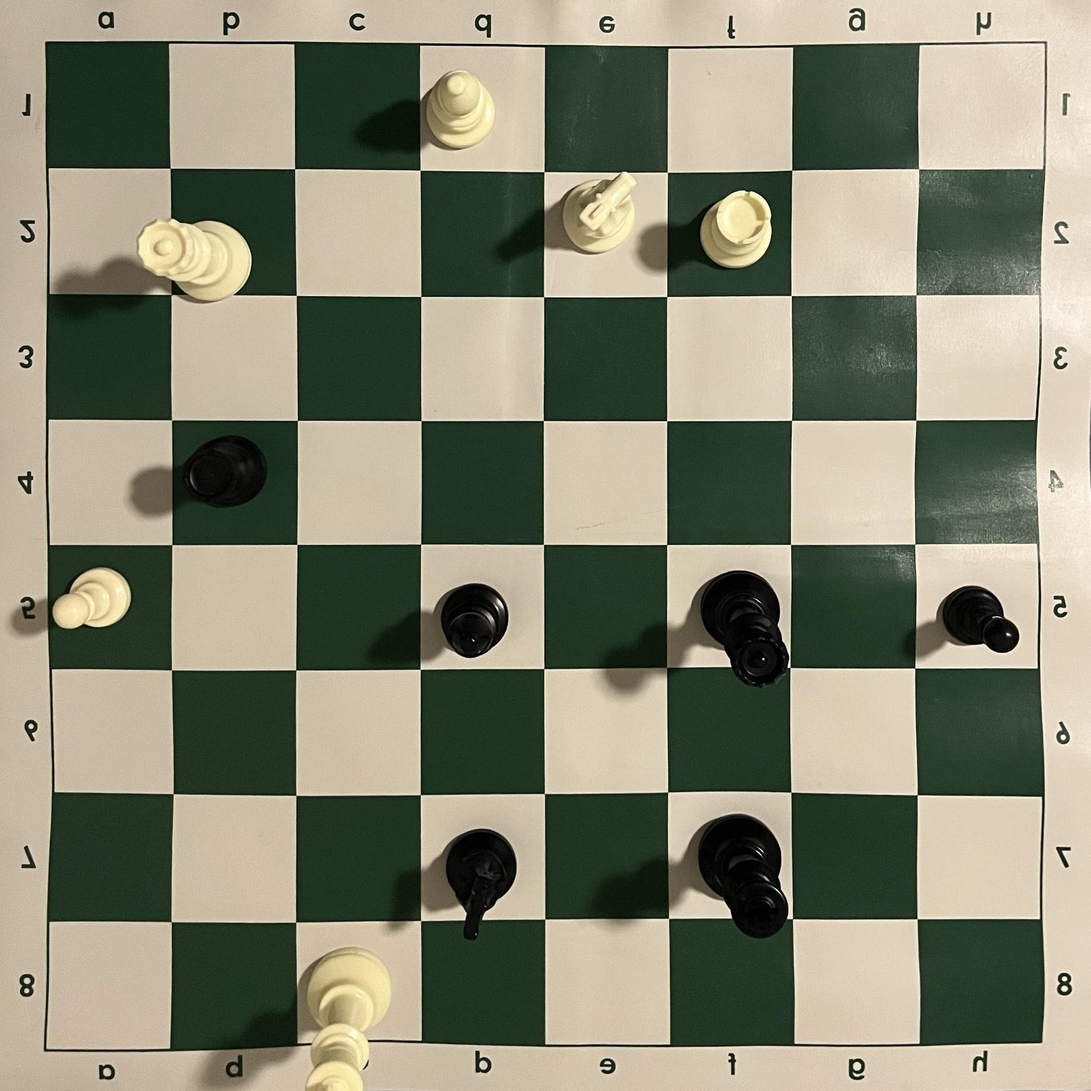black_bishop: (439, 582, 510, 659)
black_king: (697, 814, 789, 939)
black_knight: (445, 827, 518, 940)
black_pawn: (940, 586, 1020, 653)
black_queen: (698, 570, 791, 688)
black_rook: (181, 435, 268, 508)
white_king: (304, 946, 393, 1091)
white_knight: (561, 171, 637, 255)
white_pawn: (425, 69, 496, 149), (52, 567, 131, 630)
white_queen: (137, 218, 252, 302)
white_rook: (698, 190, 772, 268)
